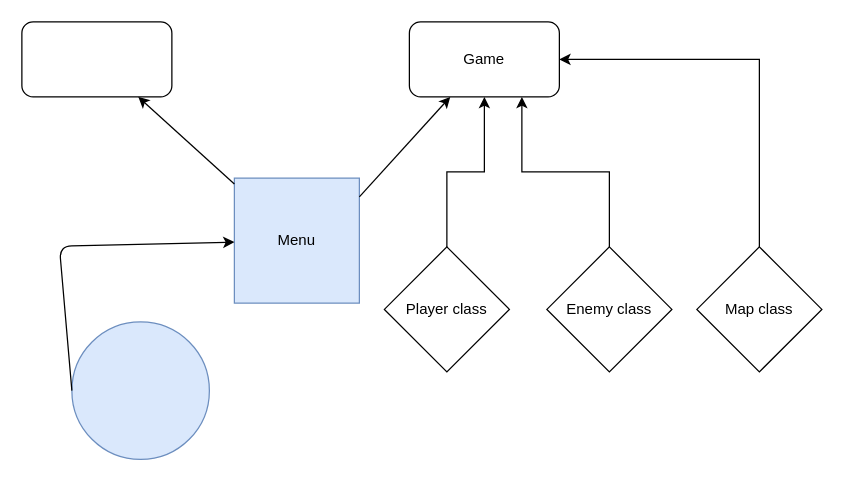
The diagram is 844 pixels wide and 481 high, and some of its shapes have lost their labels. Here are the shapes that lost their labels. From the top down, the centre of each, then its label:
(x=96, y=59): Exit
(x=140, y=390): Application Start
